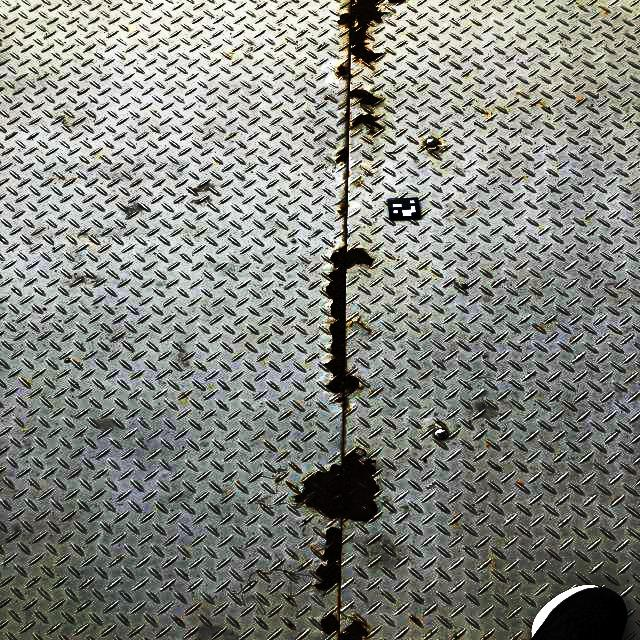Corrosion: (325, 245, 374, 409), (294, 451, 379, 522), (339, 0, 386, 63), (315, 528, 342, 592), (353, 114, 383, 134), (349, 89, 384, 106), (339, 621, 368, 640), (321, 615, 339, 635), (334, 147, 349, 164), (337, 64, 350, 76), (337, 206, 347, 215), (431, 146, 441, 153), (344, 108, 349, 120)
